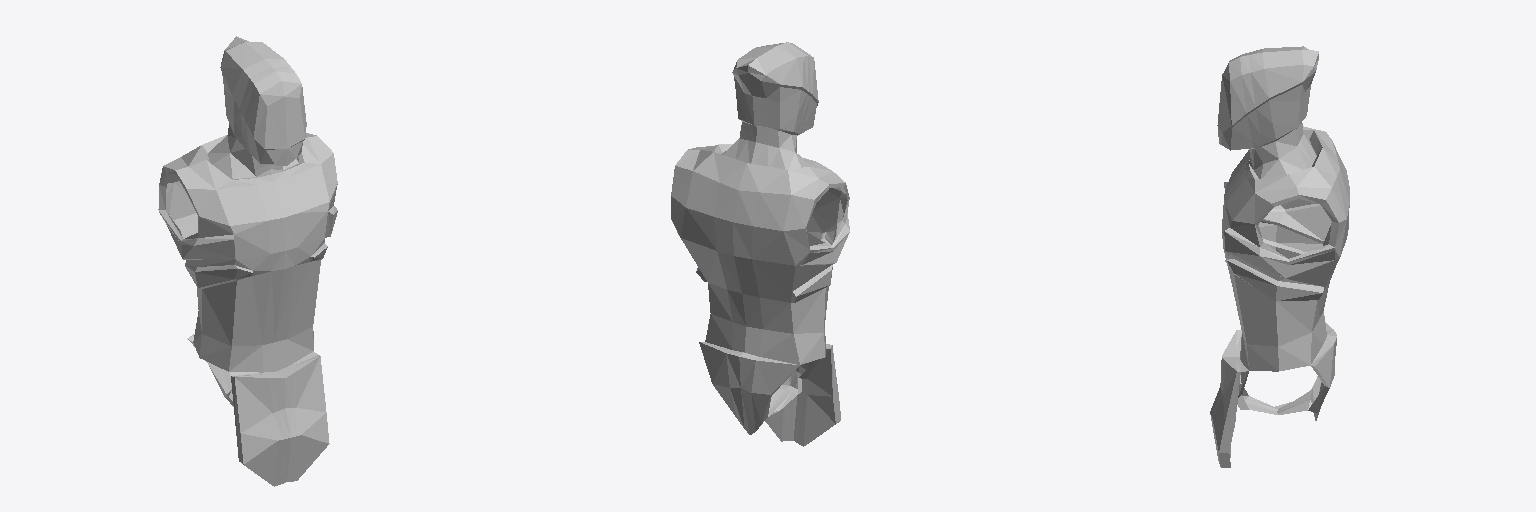
Rendered from playerbody.obj.
3 views of the same model, side by side, from view 1: azimuth 30°, elevation 25°; view 2: azimuth 150°, elevation 25°; view 3: azimuth 270°, elevation 25° (orthographic).
Size of the model in its own units: 1.64 by 4.39 by 1.35.